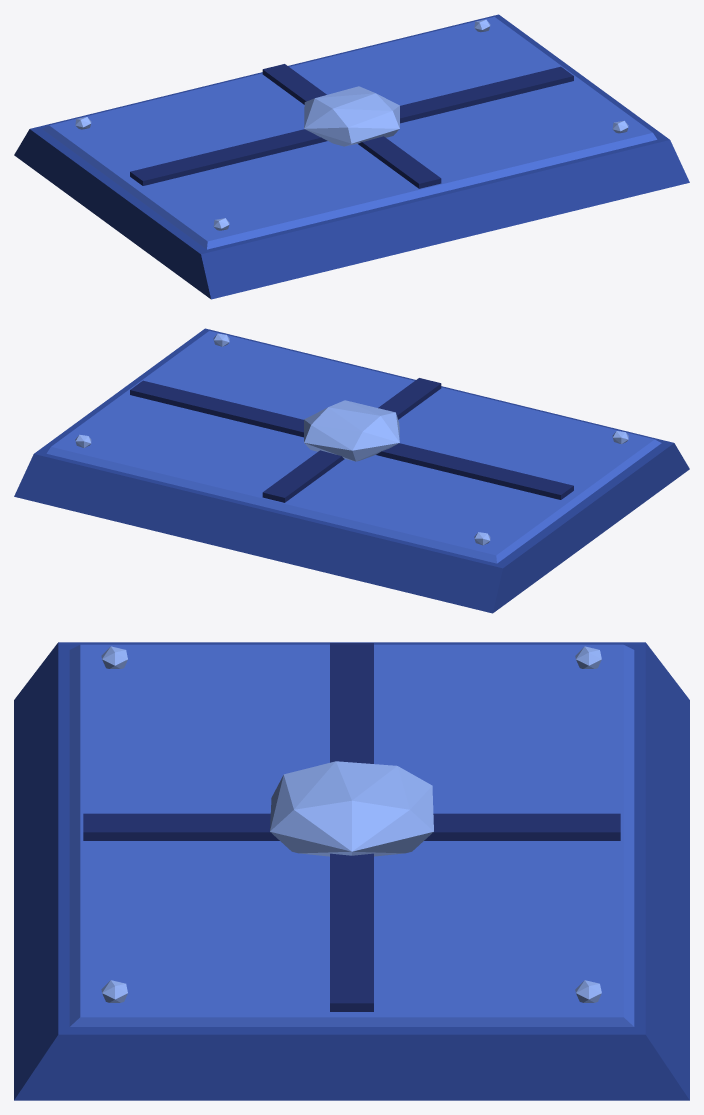
Rendered from drop_mithril_squareshield.glb.
The picture shows the model from 3 angles, top to bottom: view 1: azimuth 30°, elevation 25°; view 2: azimuth 150°, elevation 25°; view 3: azimuth 270°, elevation 25°; orthographic projection. The views are drawn at different scales.
Parts seen in each view (by area): view 1: drop_mithril_squareshield; view 2: drop_mithril_squareshield; view 3: drop_mithril_squareshield.
Part boxes in pixels (box(x1,y1,x2,y2)): drop_mithril_squareshield: box(14, 14, 689, 299); drop_mithril_squareshield: box(14, 328, 689, 613); drop_mithril_squareshield: box(14, 642, 689, 1100).
Size of the model in its own units: 0.48 by 0.0845 by 0.3424.
